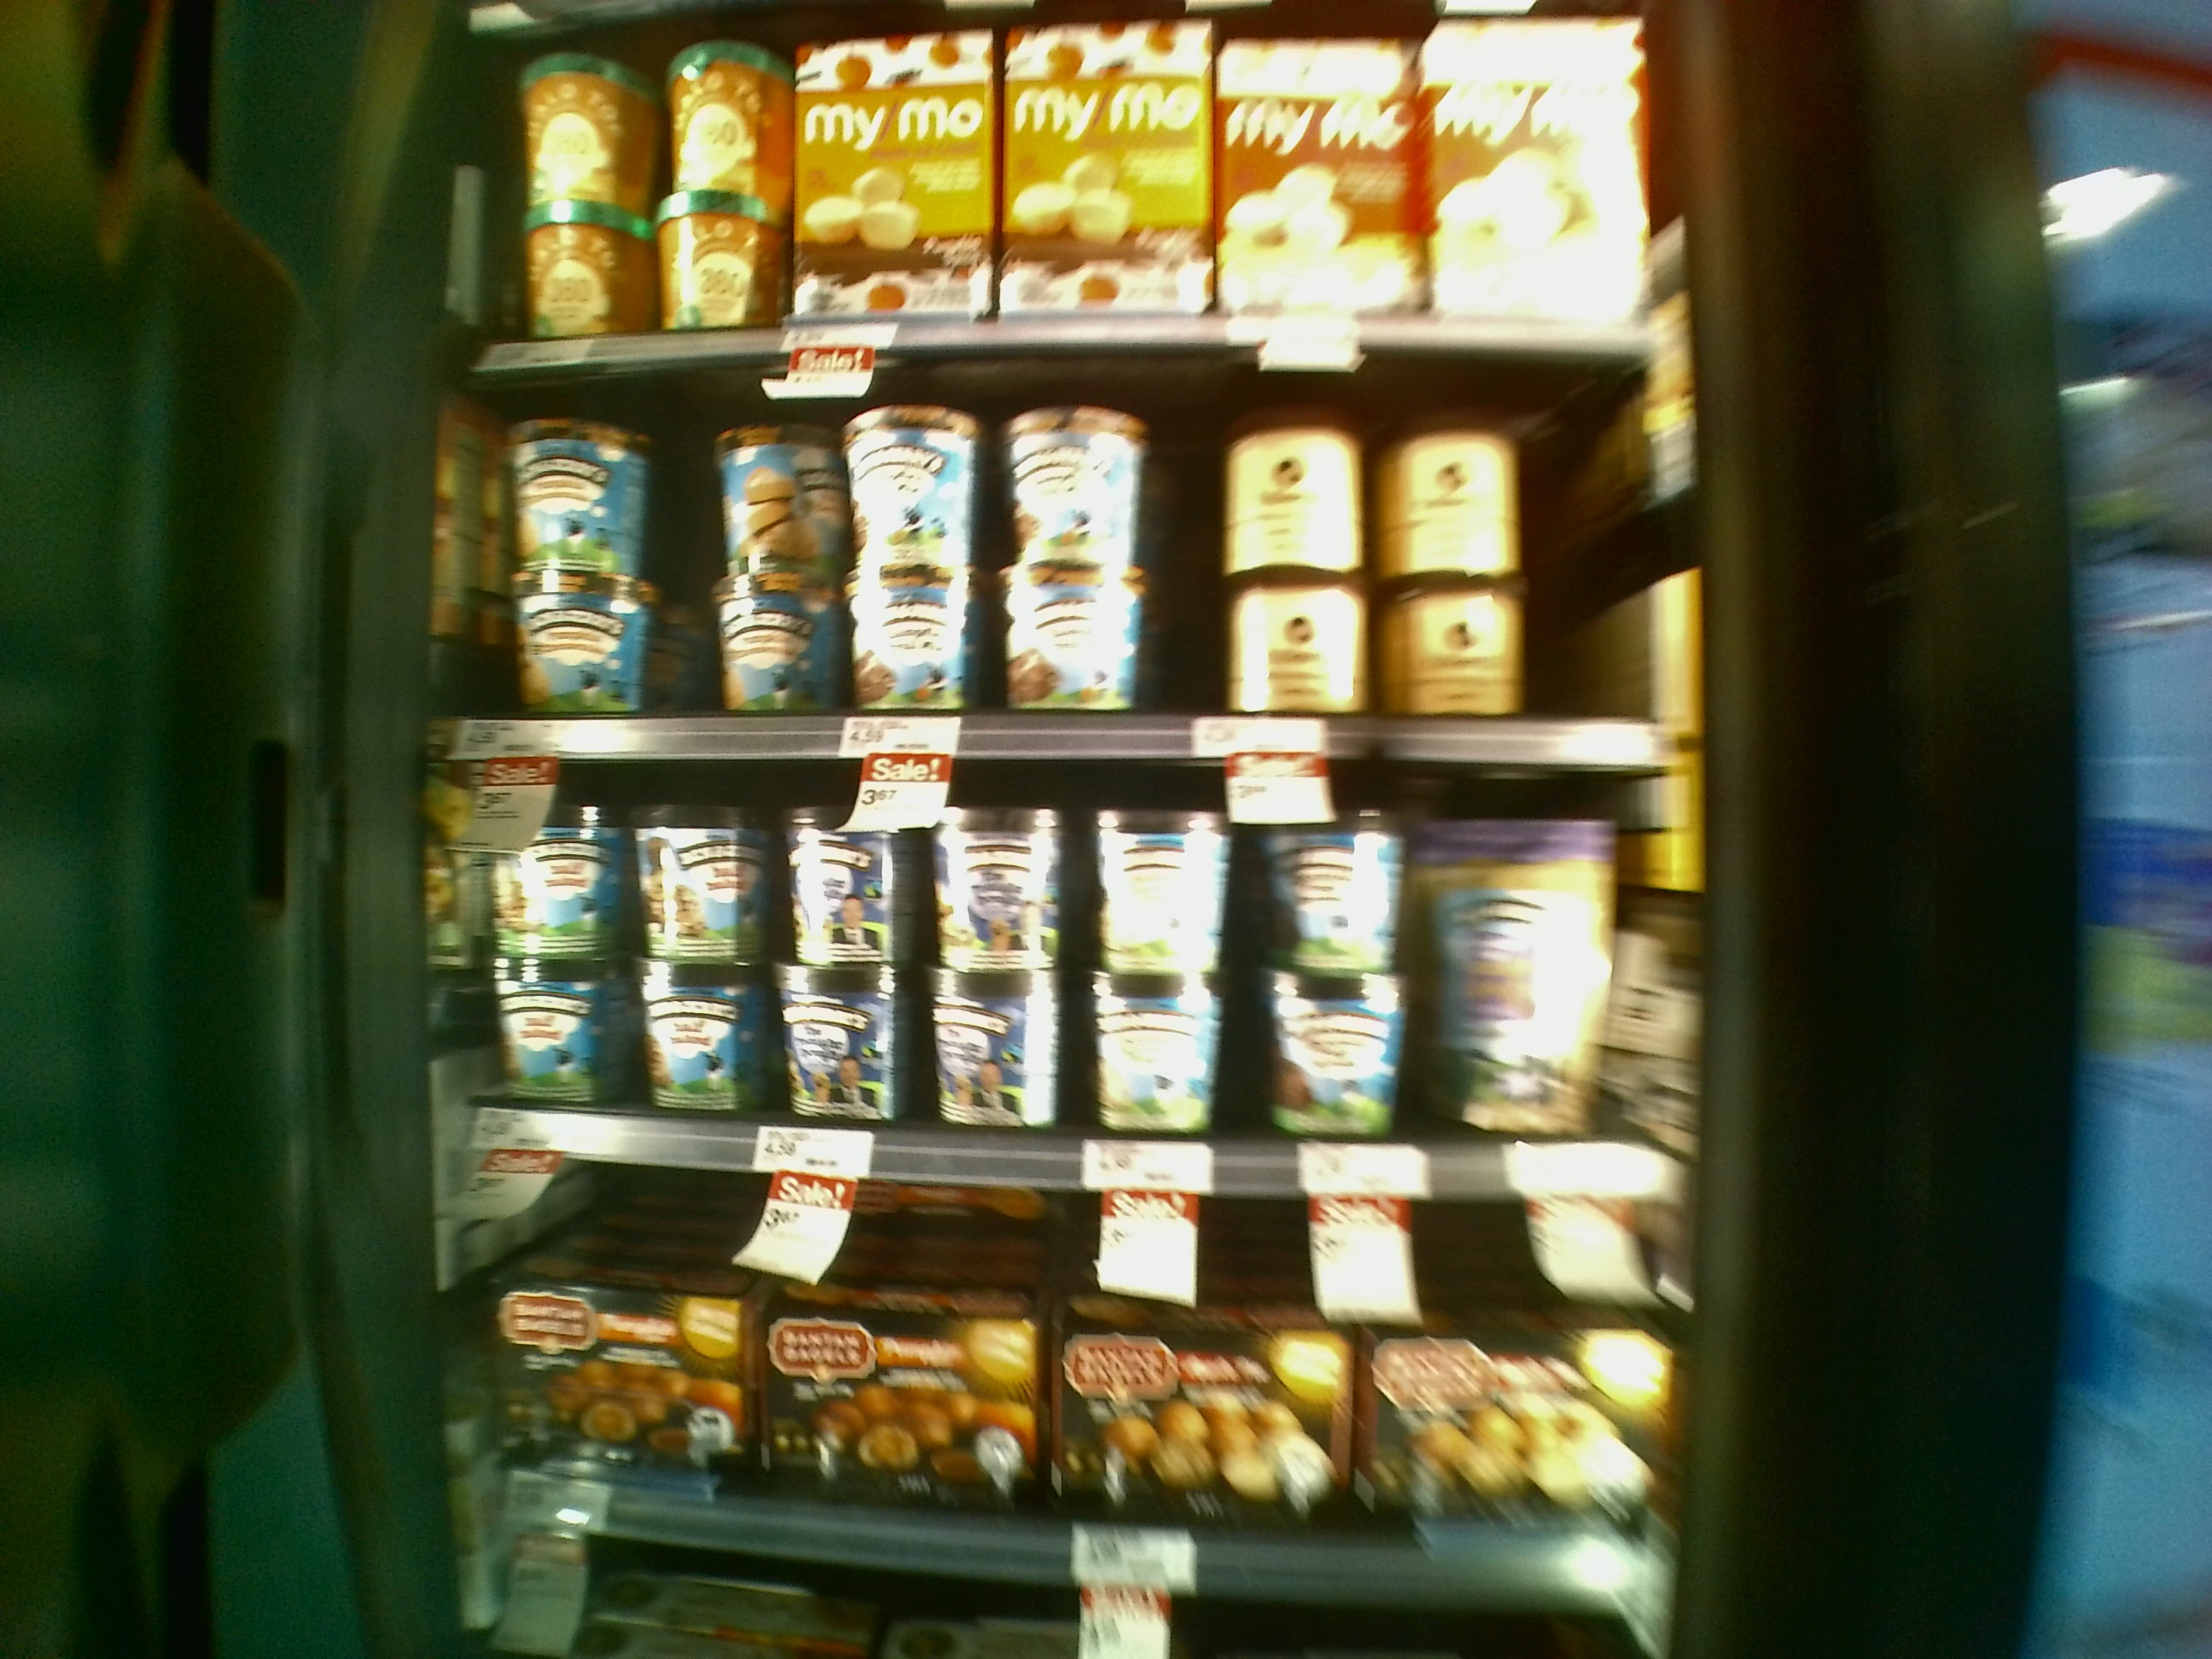shelf: (446, 716, 1683, 1201), (449, 1129, 1646, 1601), (469, 343, 1663, 769)
